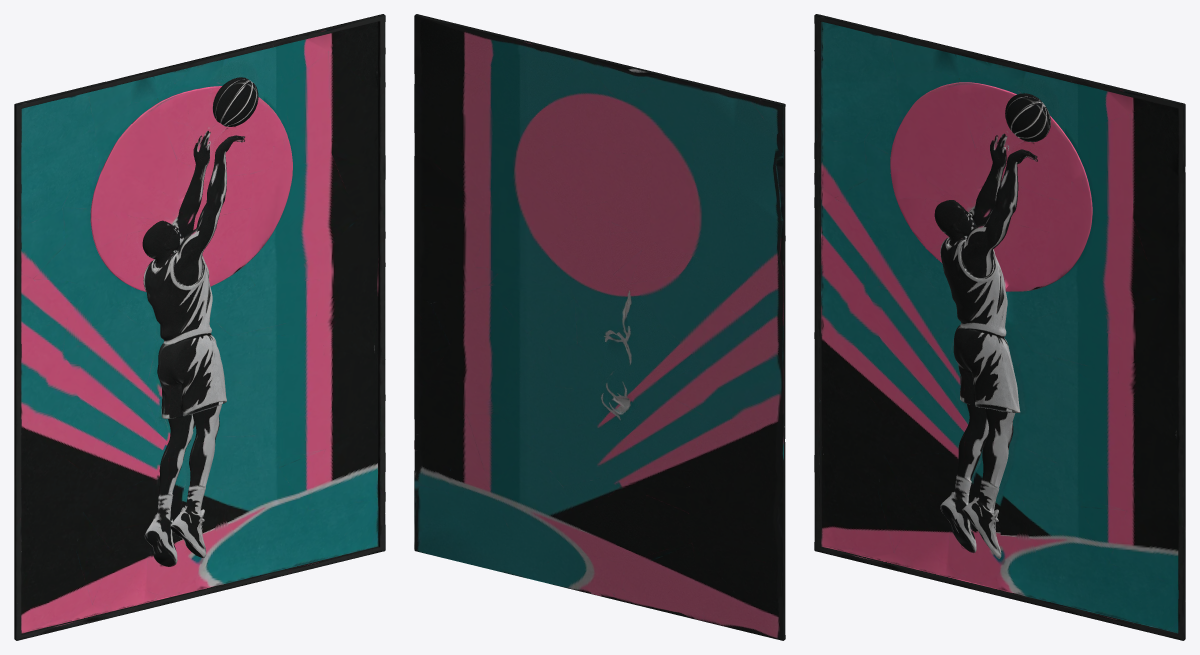
Rendered from desktop.glb.
3 views of the same model, side by side, from view 1: azimuth 30°, elevation 25°; view 2: azimuth 150°, elevation 25°; view 3: azimuth 330°, elevation 25° (orthographic).
Visible parts, largest first — view 1: d-poster; view 2: d-poster; view 3: d-poster.
Boxes of the visible parts, x1,y1,x2,y2 form: d-poster: (14, 14, 385, 640); d-poster: (414, 14, 785, 640); d-poster: (814, 14, 1185, 640).
Size of the model in its own units: 0.5999 by 0.8316 by 0.0226.
1 material, 1 textured.
